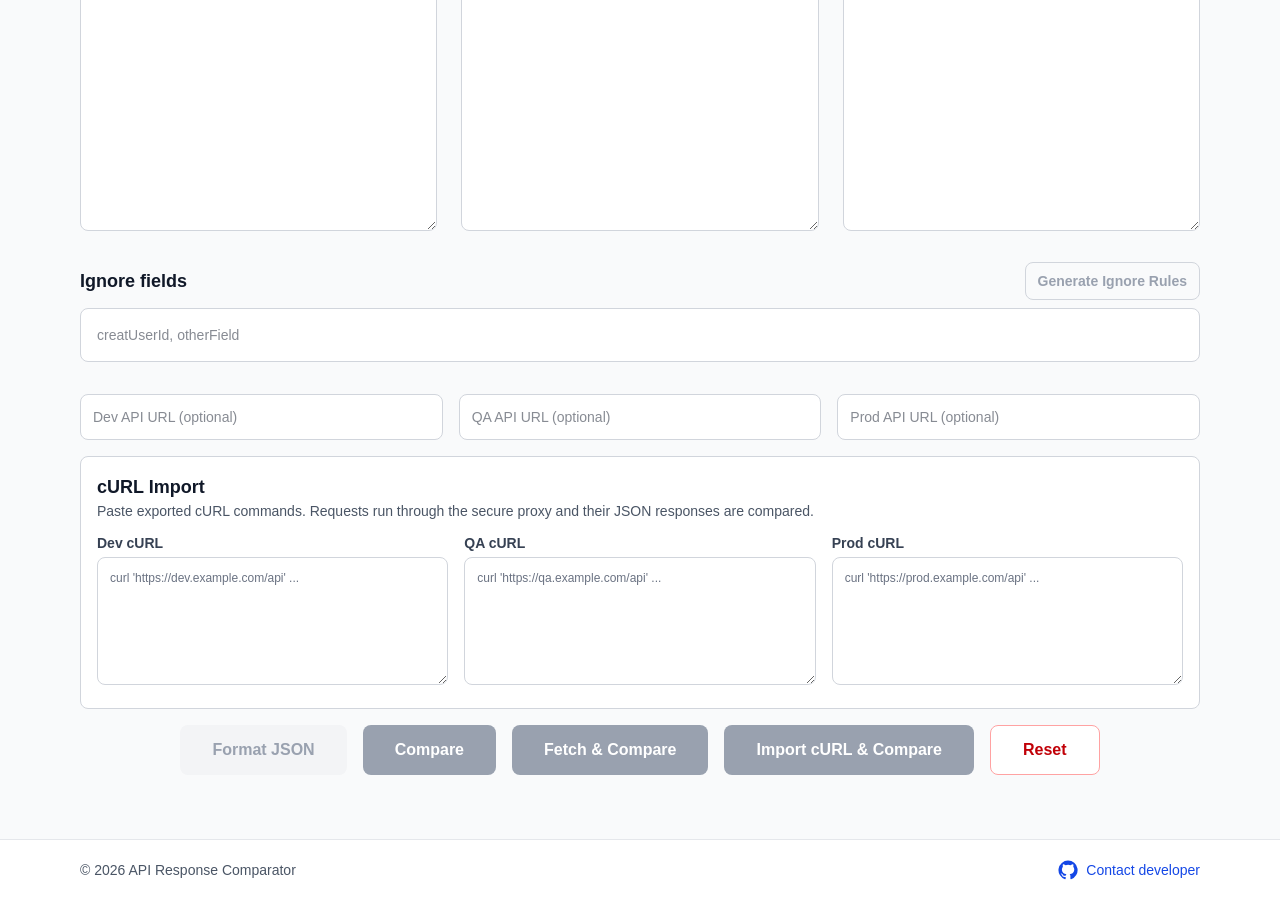
Test case: Home › reports invalid JSON returned from cURL proxy execution
(page scrolled)
Type "curl 'https://dev.test'" into the text box labelled "Dev cURL". click: (273, 621)
box: 97,557 -> 448,685
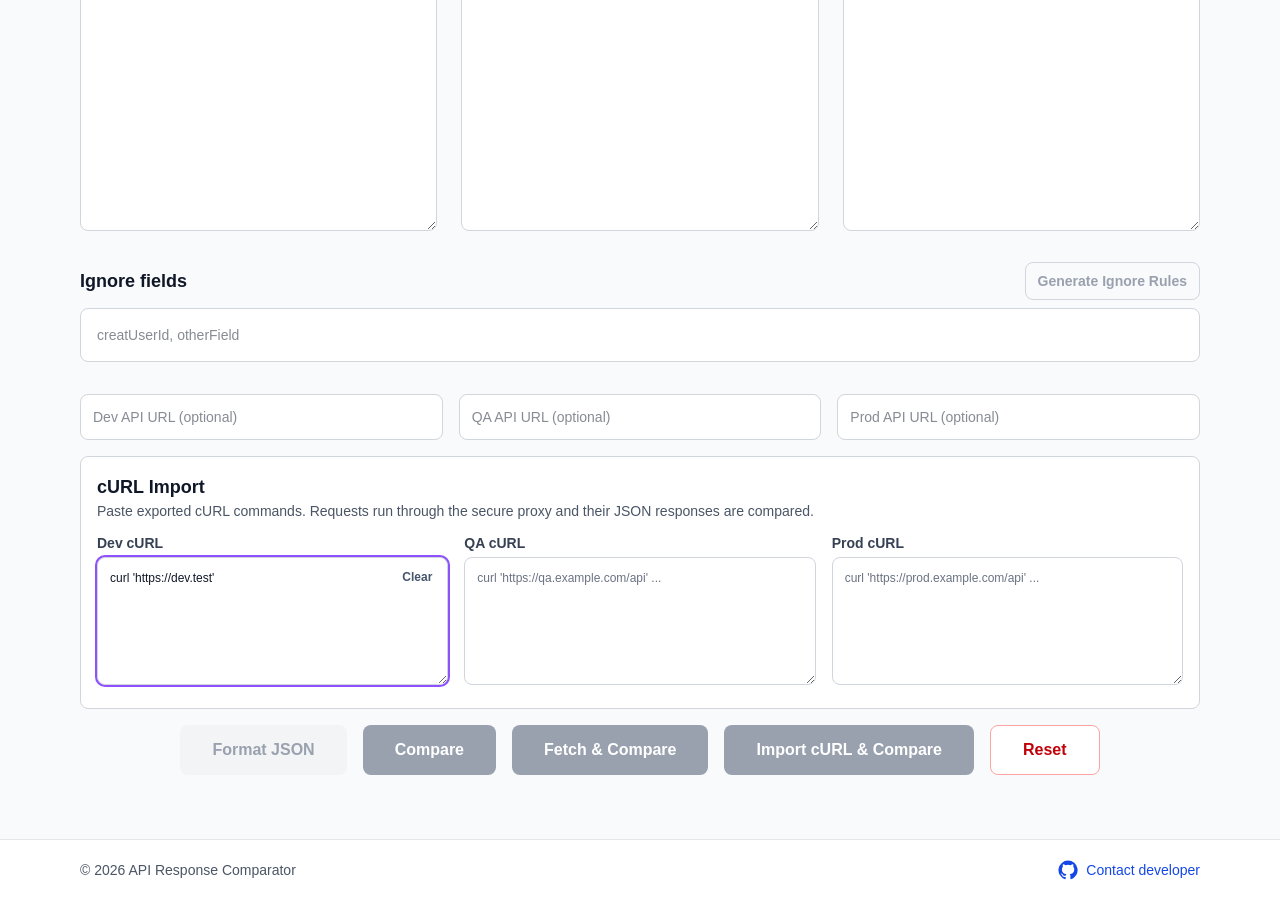
Type "curl 'https://qa.test'" into the text box labelled "QA cURL". click: (640, 621)
box: 464,557 -> 816,685
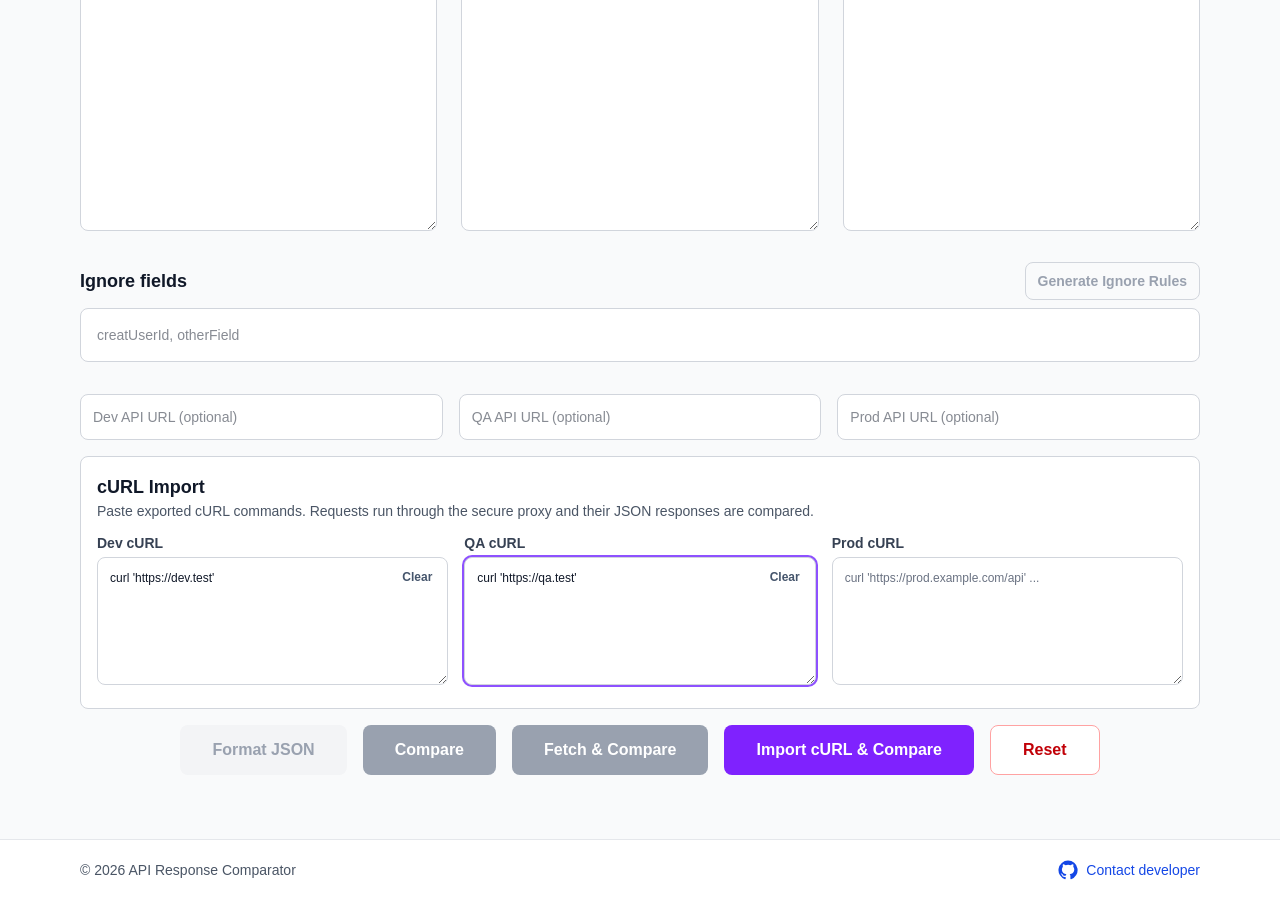
Click the button "Import cURL & Compare". click: (849, 750)
box: 724,725 -> 974,775
(page scrolled)
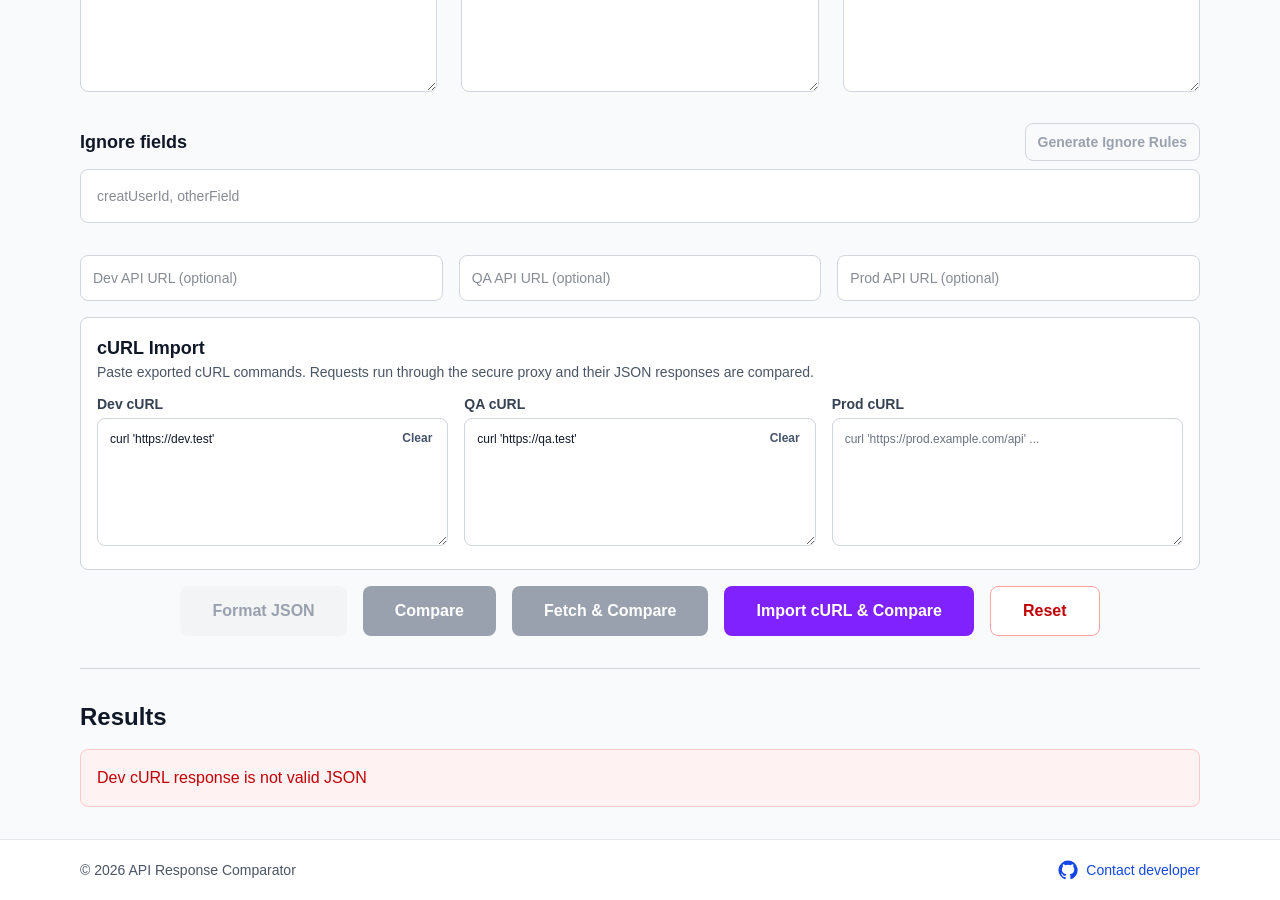
Now the text "Dev cURL response is not valid JSON" is shown, box 80,749 -> 1200,807
